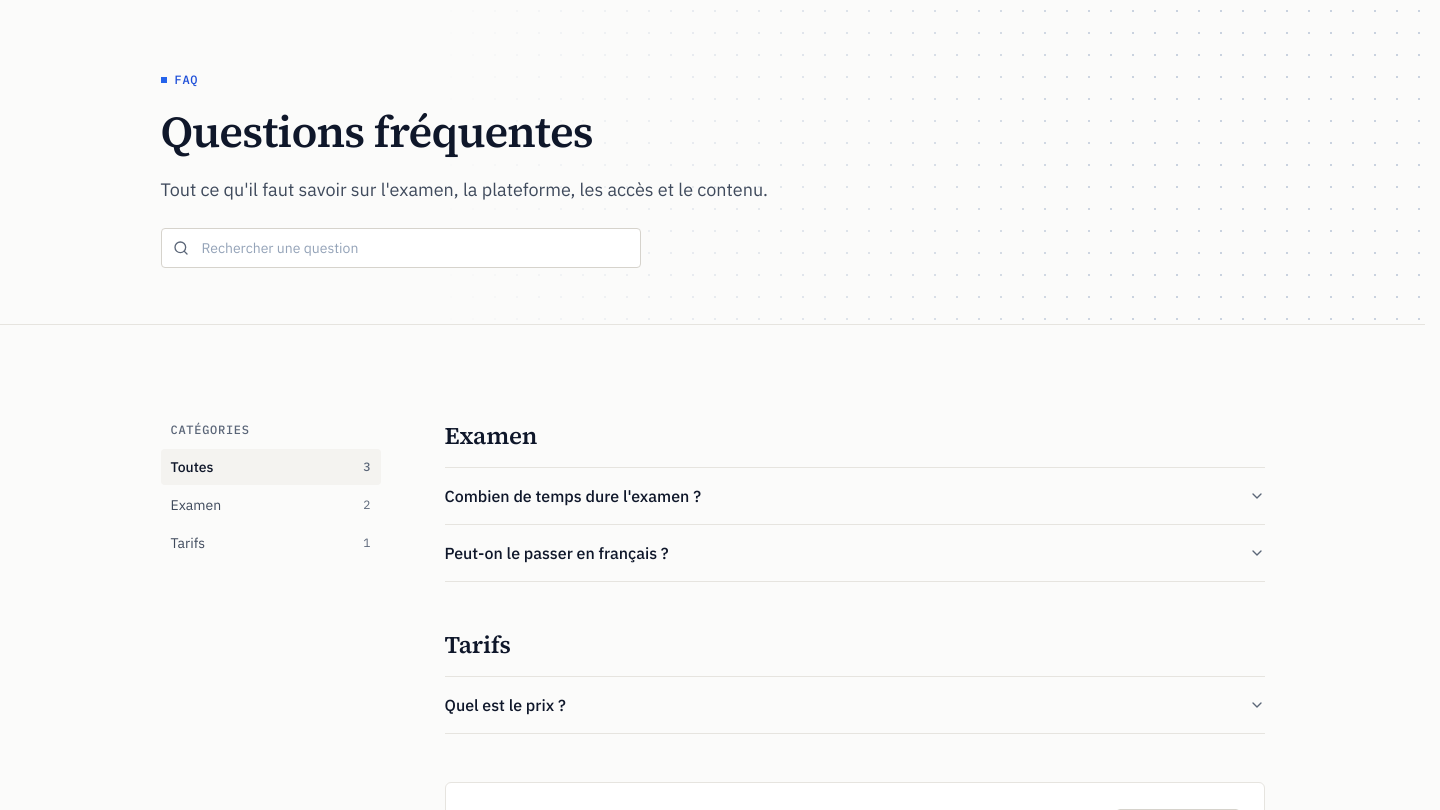
Test: FaqPageClient › sans correspondance, renvoie vers l'adresse de contact
In the field labelled "Rechercher une question": coordinates (400, 248) [160, 228, 640, 268], type "zzz"
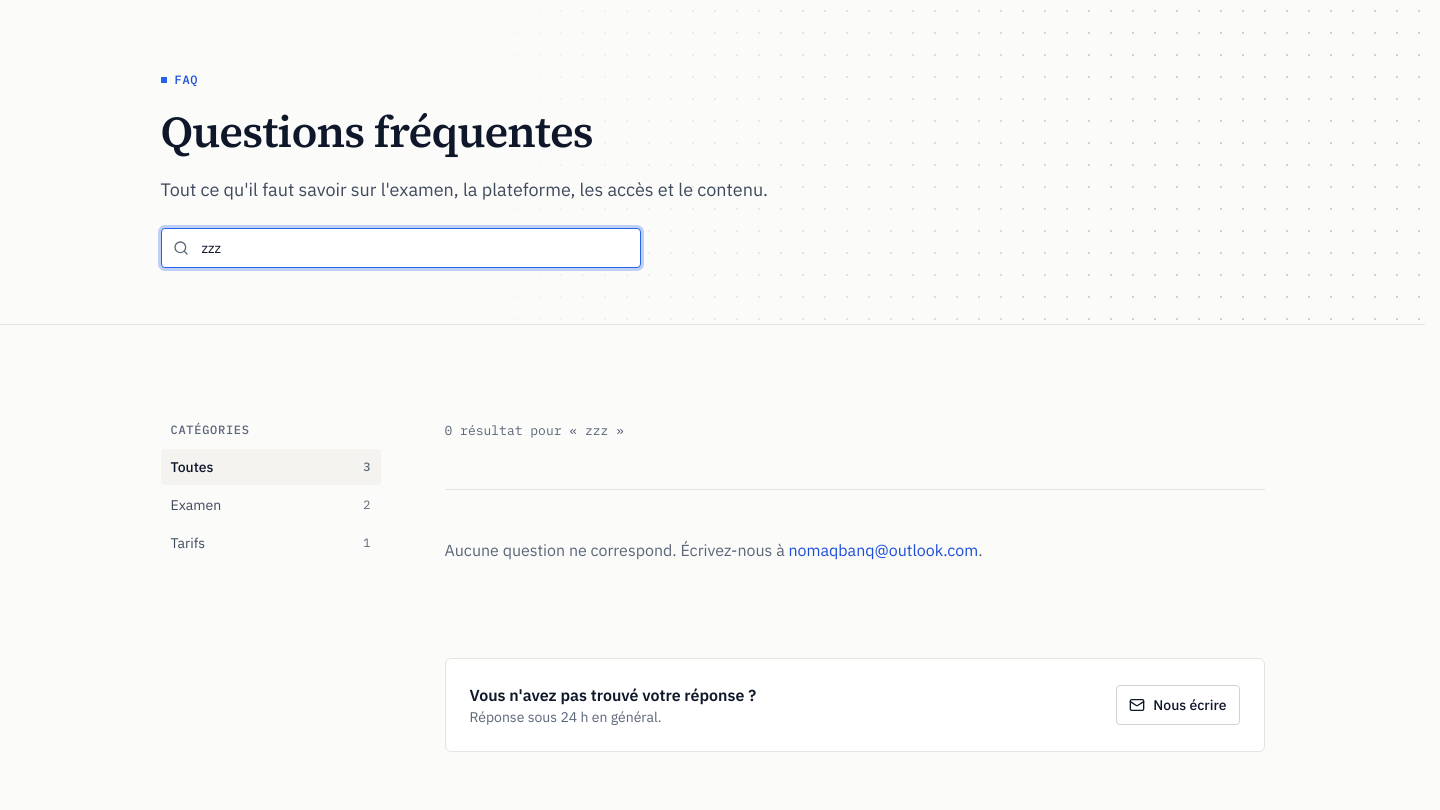
Result: no the heading "Examen" are shown
Result: the text "0 résultat pour « zzz »" is shown at [444, 422, 624, 439]
